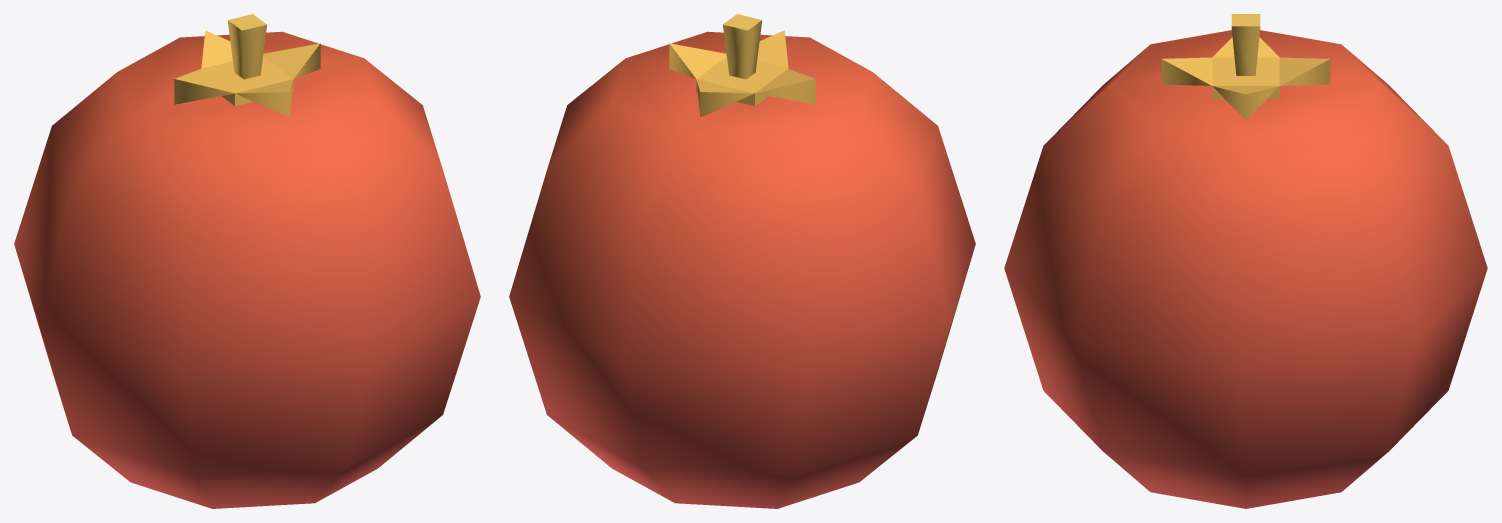
The model's file is orange.glb.
3 renders of one model, left to right at view 1: azimuth 30°, elevation 25°; view 2: azimuth 150°, elevation 25°; view 3: azimuth 270°, elevation 25°, orthographic.
Parts seen in each view (by area): view 1: orange; view 2: orange; view 3: orange.
Boxes of the visible parts, x1,y1,x2,y2 form: orange: [14, 14, 480, 508]; orange: [509, 14, 975, 508]; orange: [1004, 14, 1487, 508].
Size of the model in its own units: 0.1697 by 0.1672 by 0.1697.
1 material, 1 textured.
